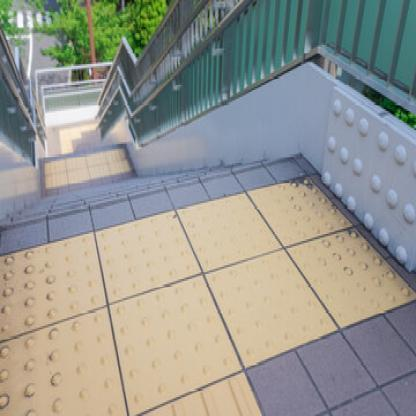podotacti: (0, 170, 416, 416)
